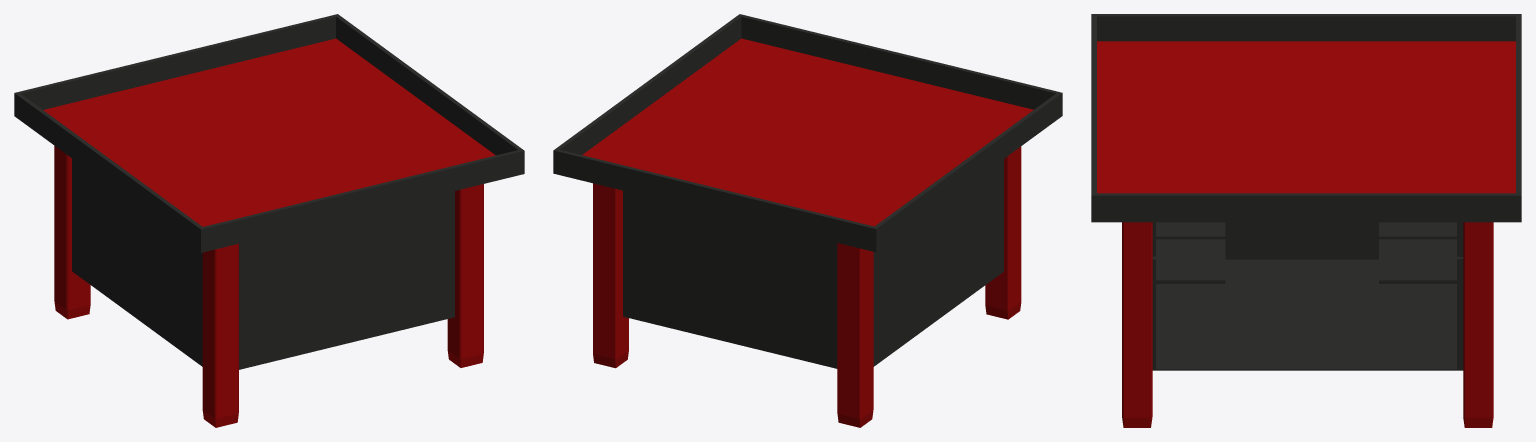
Rendered from Workbench.fbx.
3 renders of one model, left to right at view 1: azimuth 30°, elevation 25°; view 2: azimuth 150°, elevation 25°; view 3: azimuth 270°, elevation 25°, orthographic. The views are drawn at different scales.
Visible parts, largest first — view 1: Workshop_Table, Legs; view 2: Workshop_Table, Legs; view 3: Workshop_Table, Legs.
Boxes of the visible parts, x1=… form: Workshop_Table: x1=14, y1=14, x2=524, y2=369; Legs: x1=54, y1=145, x2=483, y2=427; Workshop_Table: x1=553, y1=14, x2=1062, y2=368; Legs: x1=593, y1=146, x2=1021, y2=427; Workshop_Table: x1=1091, y1=14, x2=1521, y2=370; Legs: x1=1122, y1=222, x2=1493, y2=427.
Bounding box in the file's own units: 559 × 356 × 559.
